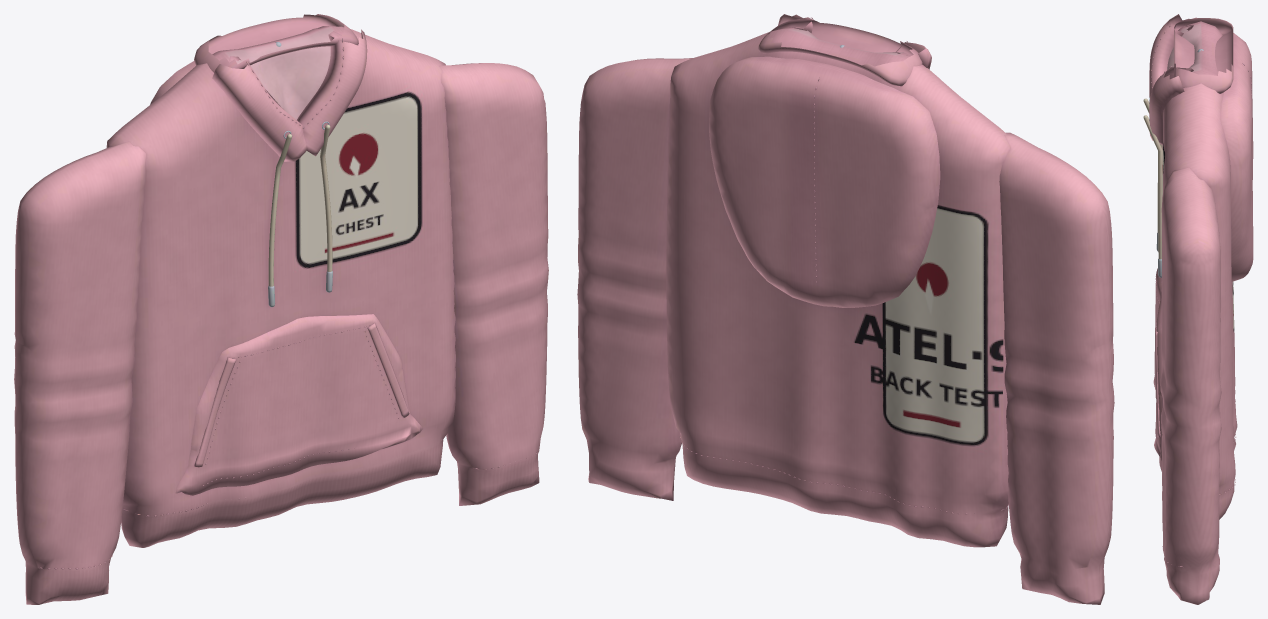
The model's file is grab3d-hoodie-clean-v2-placement-test.glb.
3 renders of one model, left to right at view 1: azimuth 30°, elevation 25°; view 2: azimuth 150°, elevation 25°; view 3: azimuth 270°, elevation 25°, orthographic. The views are drawn at different scales.
Parts seen in each view (by area): view 1: hoodie_body; view 2: hoodie_body; view 3: hoodie_body.
Boxes of the visible parts, x1,y1,x2,y2 form: hoodie_body: (14,14,548,604); hoodie_body: (577,14,1114,604); hoodie_body: (1143,14,1253,604).
Size of the model in its own units: 0.8278 by 0.7602 by 0.167.
1 material, 1 textured.
